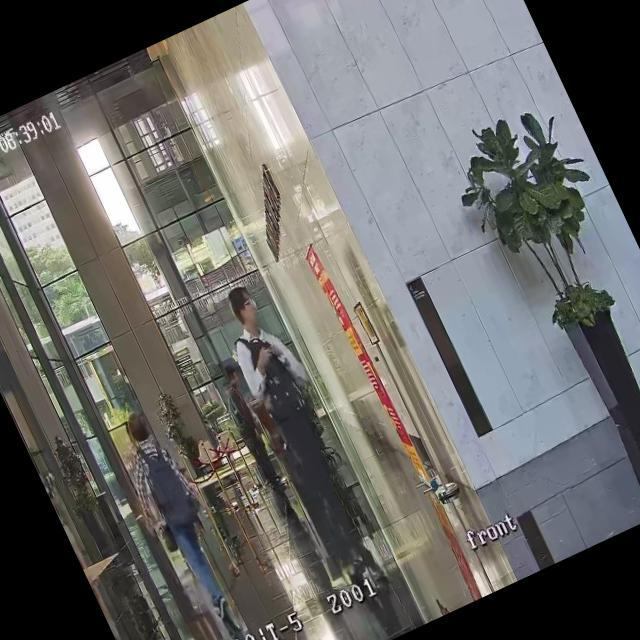person: (207, 275, 387, 570), (104, 404, 249, 628), (210, 359, 290, 496)
